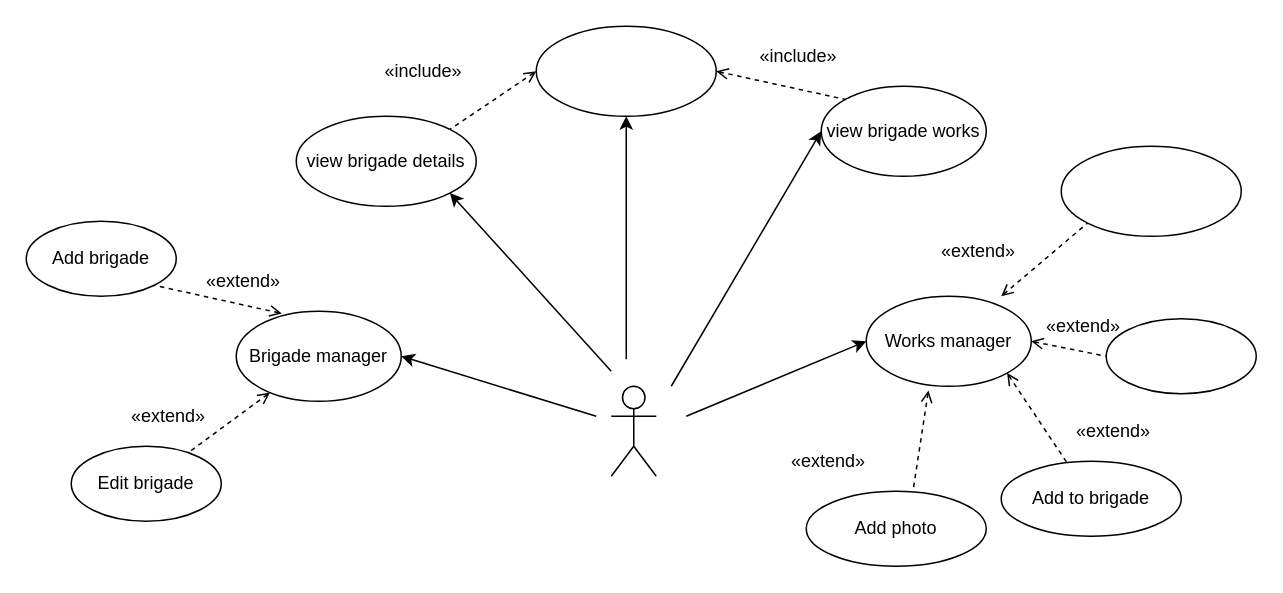
Image size: 1283x593. Some labels were removed from this diagram. The centre of each missing label's shape, as x and y in pixels:
Actor: (x=633, y=430)
Change brigade: (x=1180, y=355)
CRUD operations: (x=1150, y=190)
Select brigade: (x=625, y=70)
